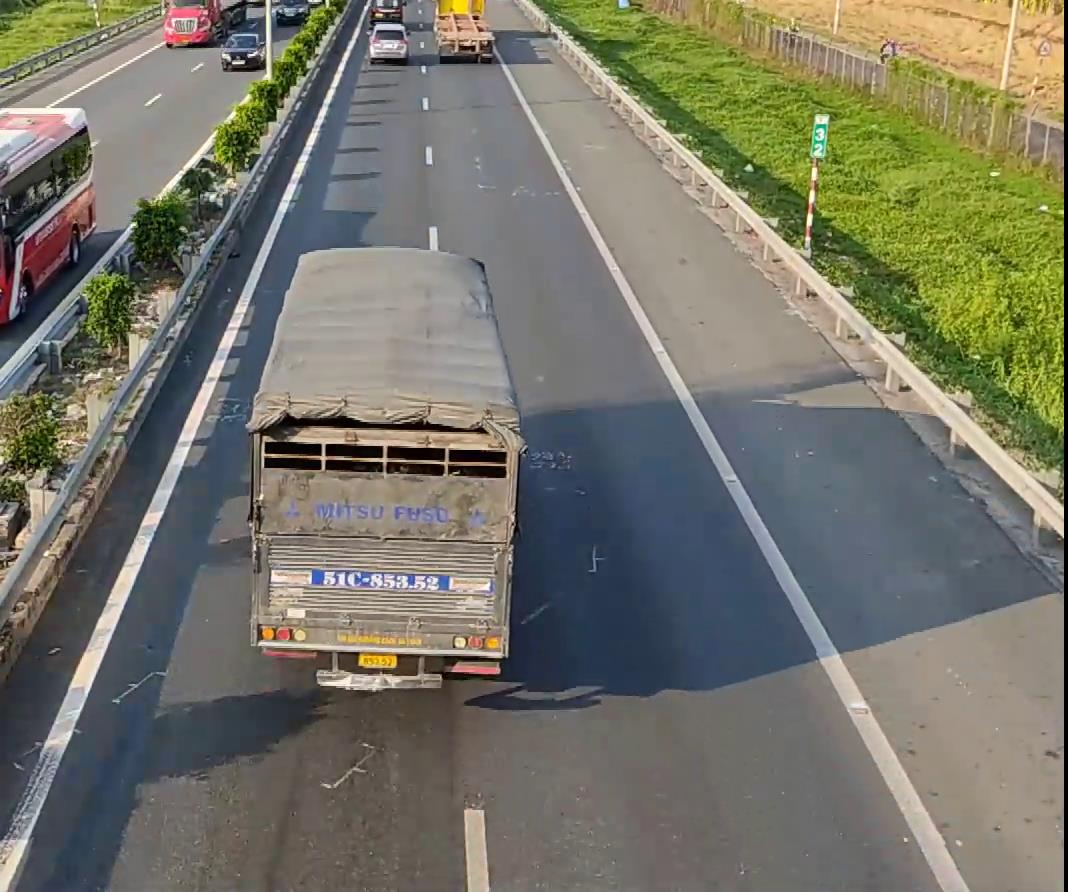bus: (0, 105, 98, 329)
truck: (250, 245, 527, 692)
